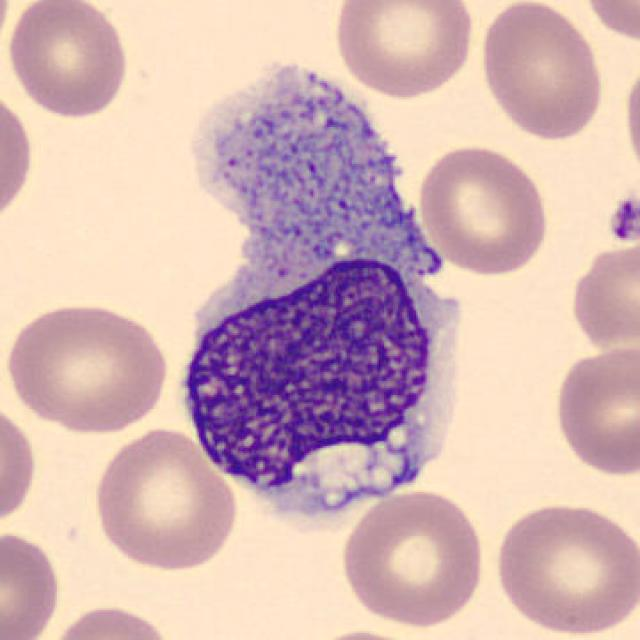Monocyte: (165, 28, 468, 517)
Platelets: (604, 190, 638, 248)
RBC: (0, 296, 172, 435), (89, 425, 242, 575), (336, 487, 489, 628), (491, 497, 636, 638), (414, 139, 553, 277), (475, 0, 608, 143), (2, 0, 132, 122), (330, 0, 478, 100), (550, 342, 638, 480), (565, 240, 640, 351), (0, 525, 64, 640), (0, 397, 39, 534), (0, 84, 37, 227), (44, 601, 176, 640), (578, 0, 640, 44), (620, 53, 640, 183), (299, 626, 430, 640), (0, 1, 12, 72)
